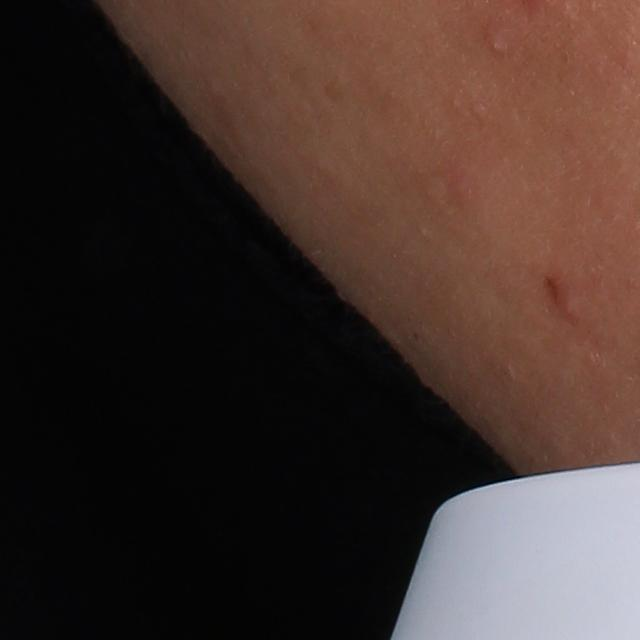comedo: (481, 29, 514, 60)
papule: (538, 276, 587, 330)
